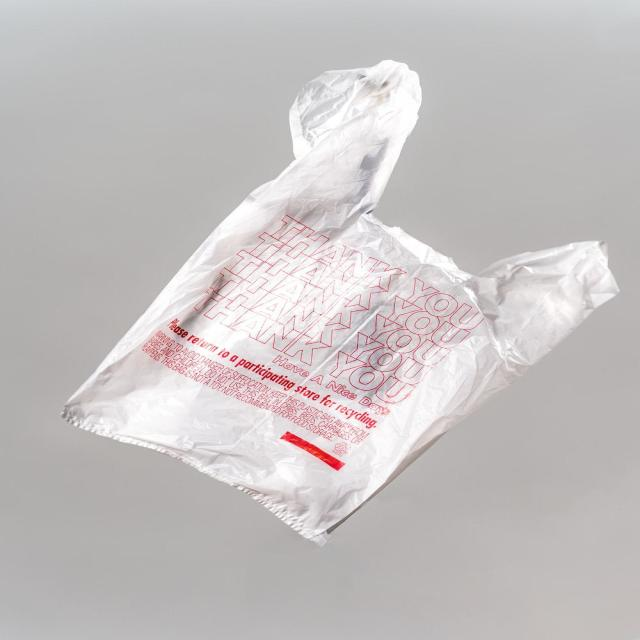plastic: (102, 123, 489, 542)
